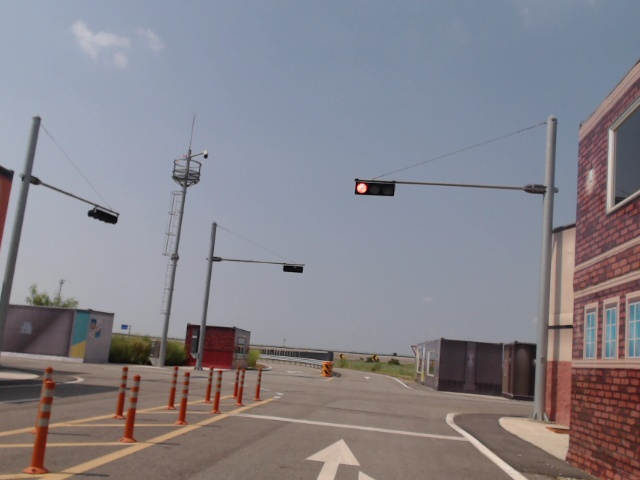red_3: (354, 179, 395, 197)
